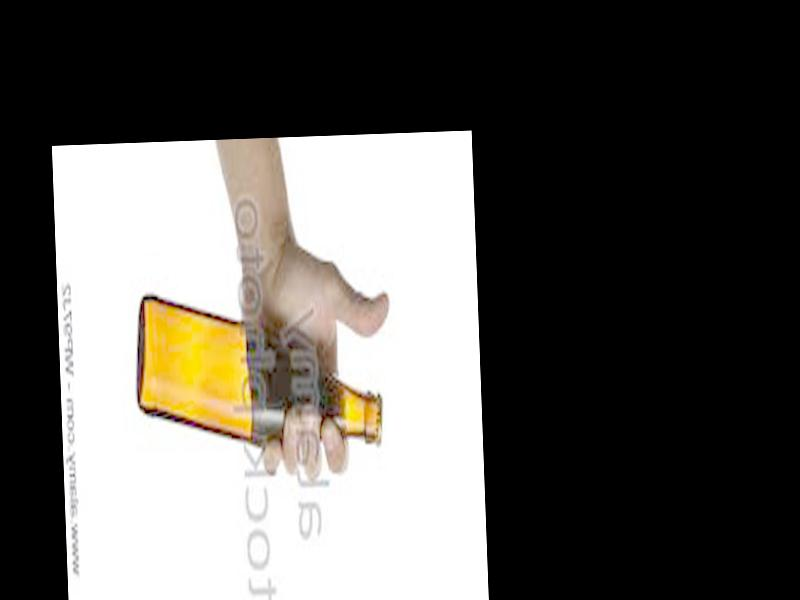Beer: (134, 283, 381, 458)
